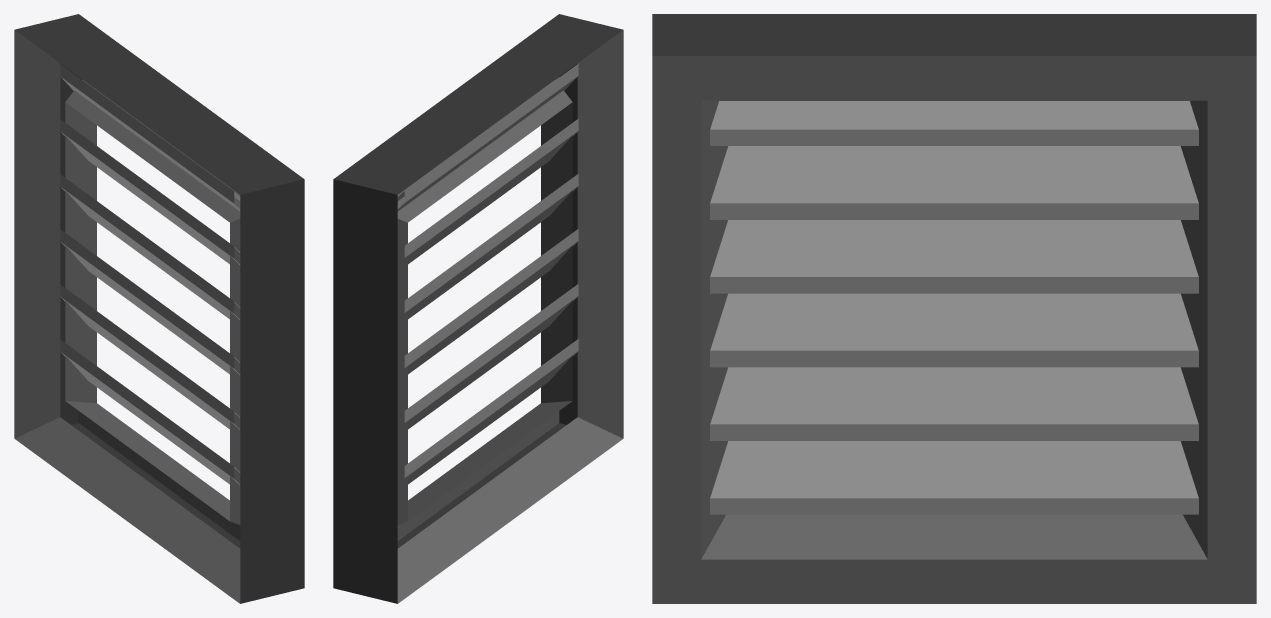
The model's file is Building_Wall_Vent.fbx.
The picture shows the model from 3 angles, left to right: view 1: azimuth 30°, elevation 25°; view 2: azimuth 150°, elevation 25°; view 3: azimuth 270°, elevation 25°; orthographic projection. The views are drawn at different scales.
Visible parts, largest first — view 1: Building_Wall_Vent; view 2: Building_Wall_Vent; view 3: Building_Wall_Vent.
Boxes of the visible parts, box(x1,y1,x2,y2) form: Building_Wall_Vent: box(14, 14, 304, 603); Building_Wall_Vent: box(333, 14, 623, 603); Building_Wall_Vent: box(652, 14, 1256, 603).
Size of the model in its own units: 9.79 by 59.5 by 59.5.
